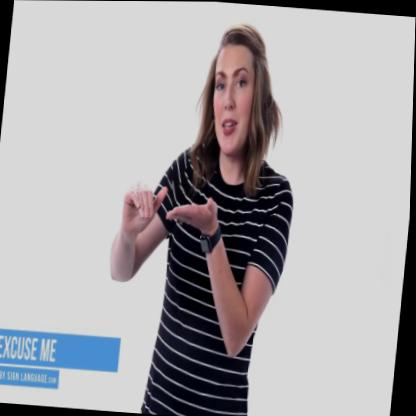ExcuseMe: (106, 148, 228, 257)
